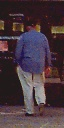person: (12, 19, 53, 114)
